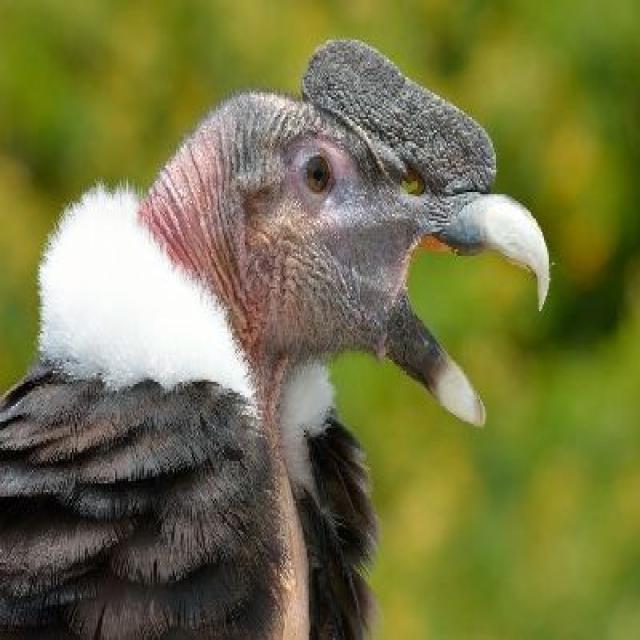Carnivorous: (0, 38, 552, 640)
